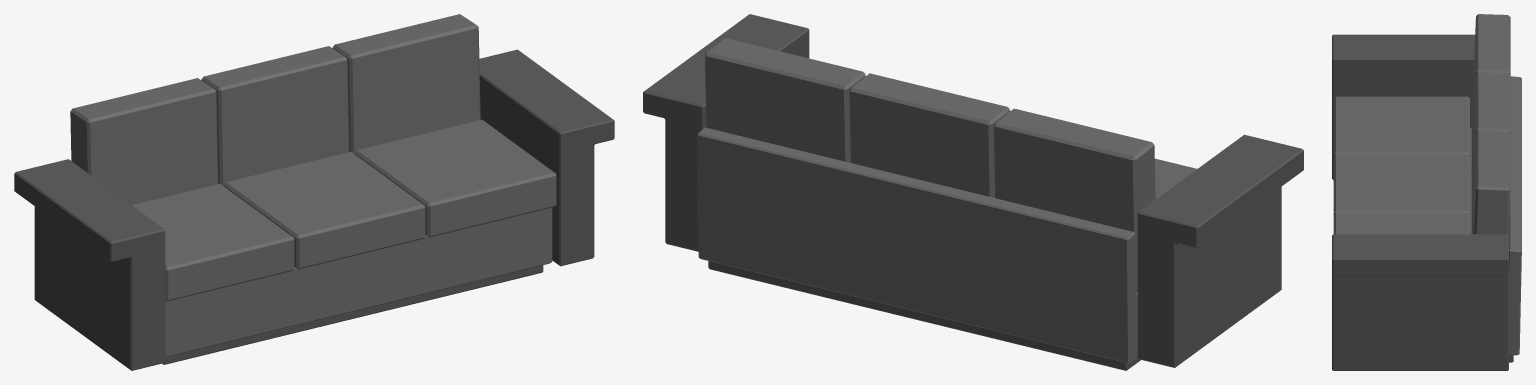
File: Sofa.fbx
The picture shows the model from 3 angles, left to right: view 1: azimuth 30°, elevation 25°; view 2: azimuth 150°, elevation 25°; view 3: azimuth 270°, elevation 25°; orthographic projection. The views are drawn at different scales.
Parts seen in each view (by area): view 1: sofa; view 2: sofa; view 3: sofa.
Boxes of the visible parts, x1,y1,x2,y2 form: sofa: (14, 14, 614, 370); sofa: (643, 14, 1303, 370); sofa: (1332, 14, 1521, 370).
Size of the model in its own units: 174 by 64.52 by 62.33.
1 material, 1 textured.
